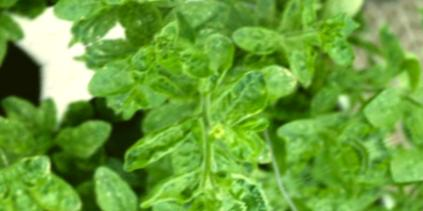Tomato leaf mosaic virus: (195, 65, 287, 143), (111, 116, 201, 178), (227, 9, 296, 71), (7, 149, 59, 194), (116, 44, 163, 81)
